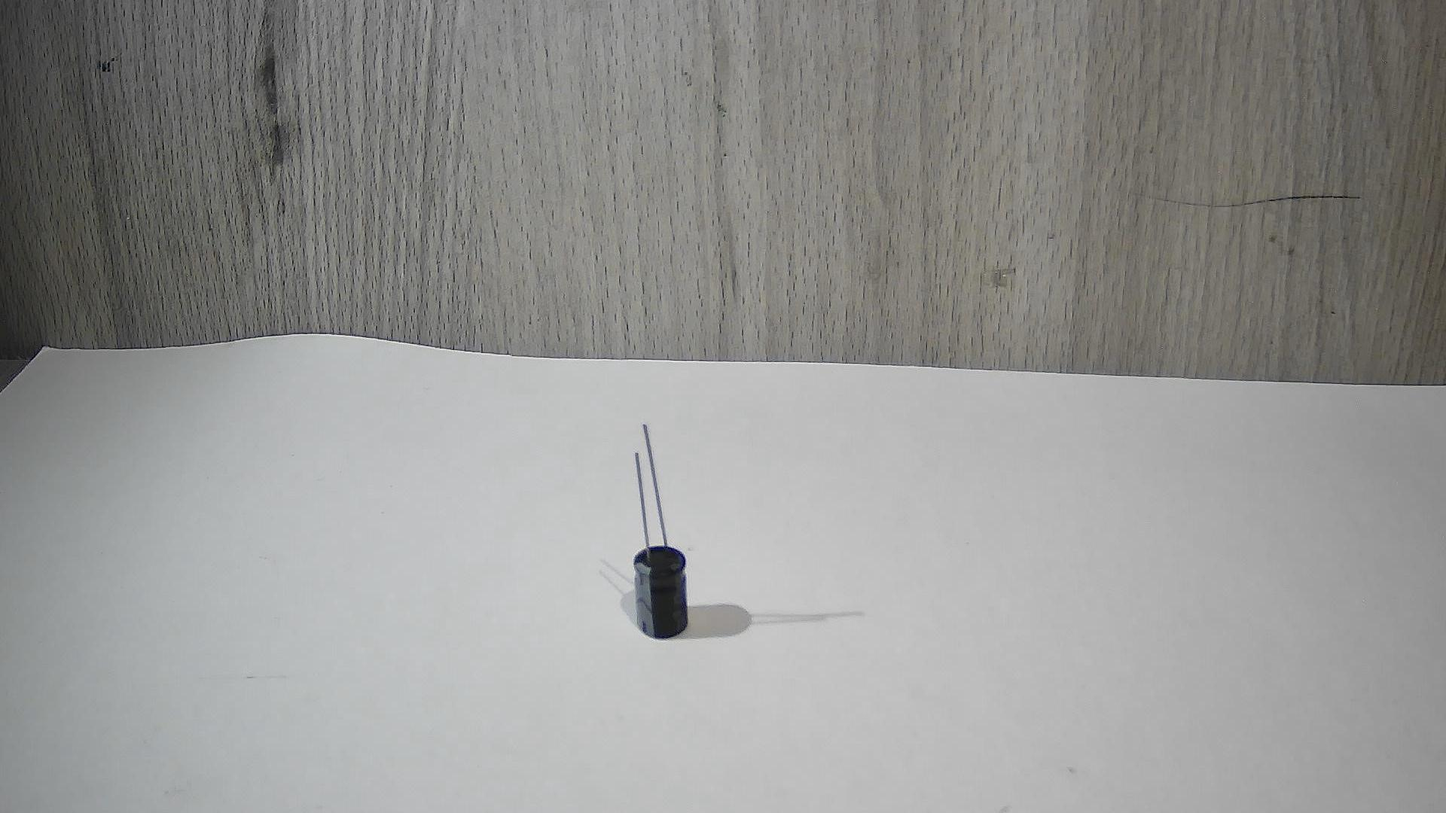Capacitor: (603, 379, 733, 667)
